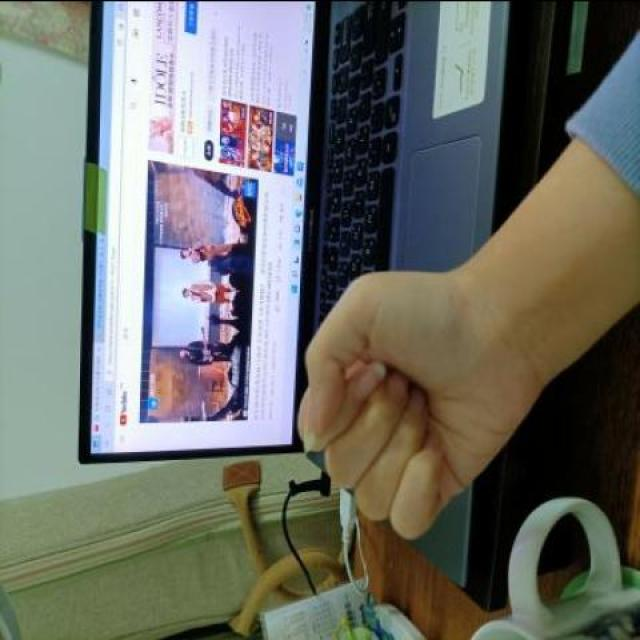Closed Hand: (287, 251, 540, 545)
